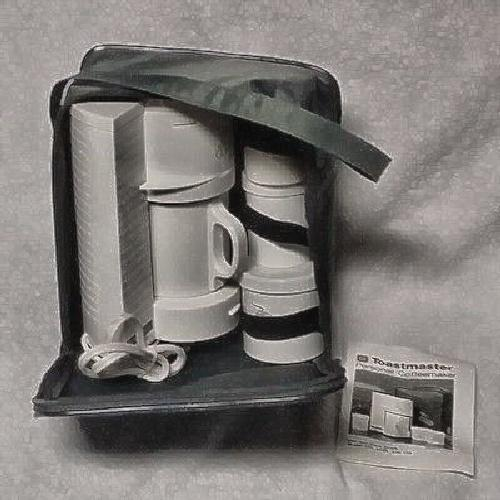coffee_maker: (34, 38, 361, 450)
